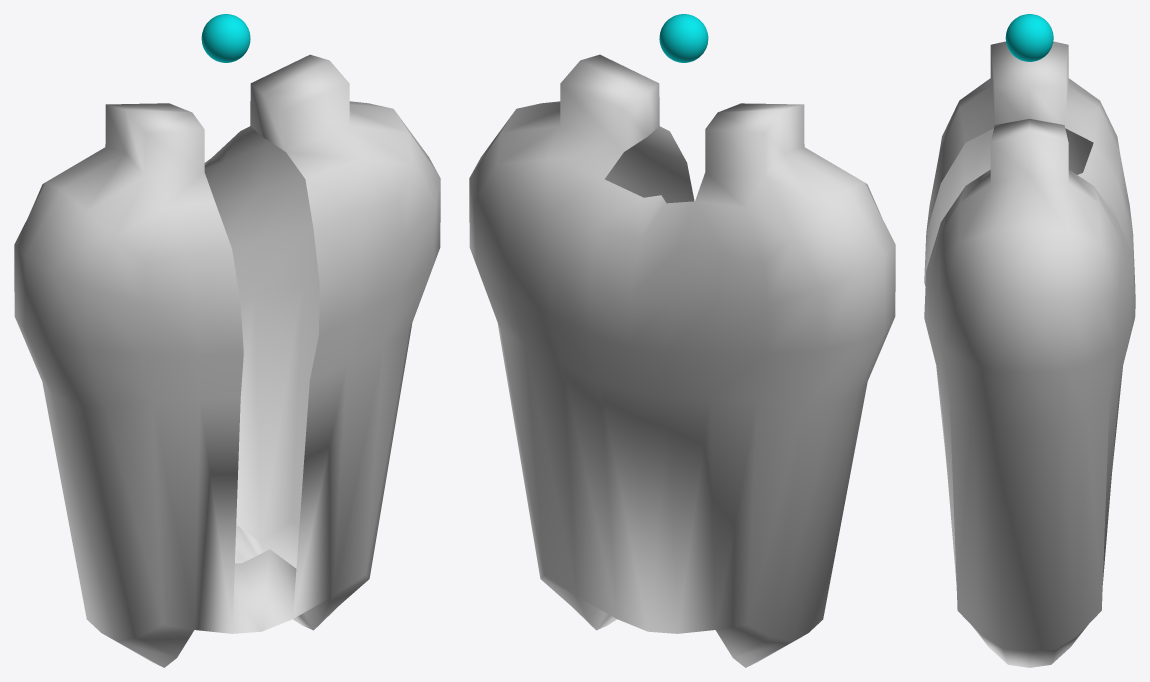
File: openchannel.glb
3 views of the same model, side by side, from view 1: azimuth 30°, elevation 25°; view 2: azimuth 150°, elevation 25°; view 3: azimuth 270°, elevation 25° (orthographic). The views are drawn at different scales.
Visible parts, largest first — view 1: Vert, Sphere; view 2: Vert, Sphere; view 3: Vert, Sphere.
Boxes of the visible parts, bbox=[...] form: Vert: bbox=[14, 54, 440, 667]; Sphere: bbox=[201, 14, 250, 62]; Vert: bbox=[469, 54, 895, 667]; Sphere: bbox=[659, 14, 708, 62]; Vert: bbox=[924, 41, 1135, 667]; Sphere: bbox=[1005, 14, 1053, 61].
Size of the model in its own units: 2.83 by 4.18 by 1.3.
